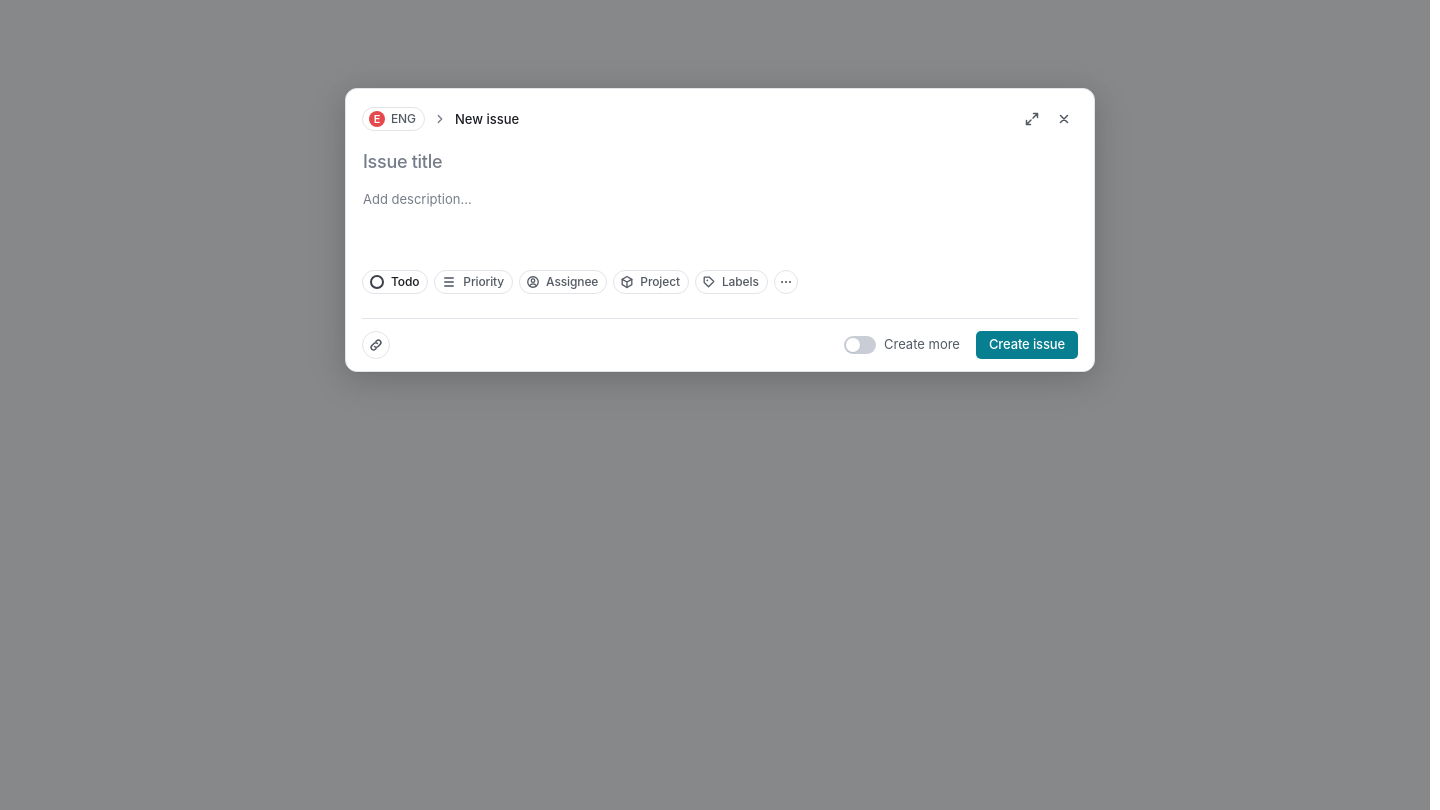
it: CreateIssueModal › refuses an empty title without filing anything or closing
Click the switch named "Create more" at (860, 344), box [844, 336, 876, 354]
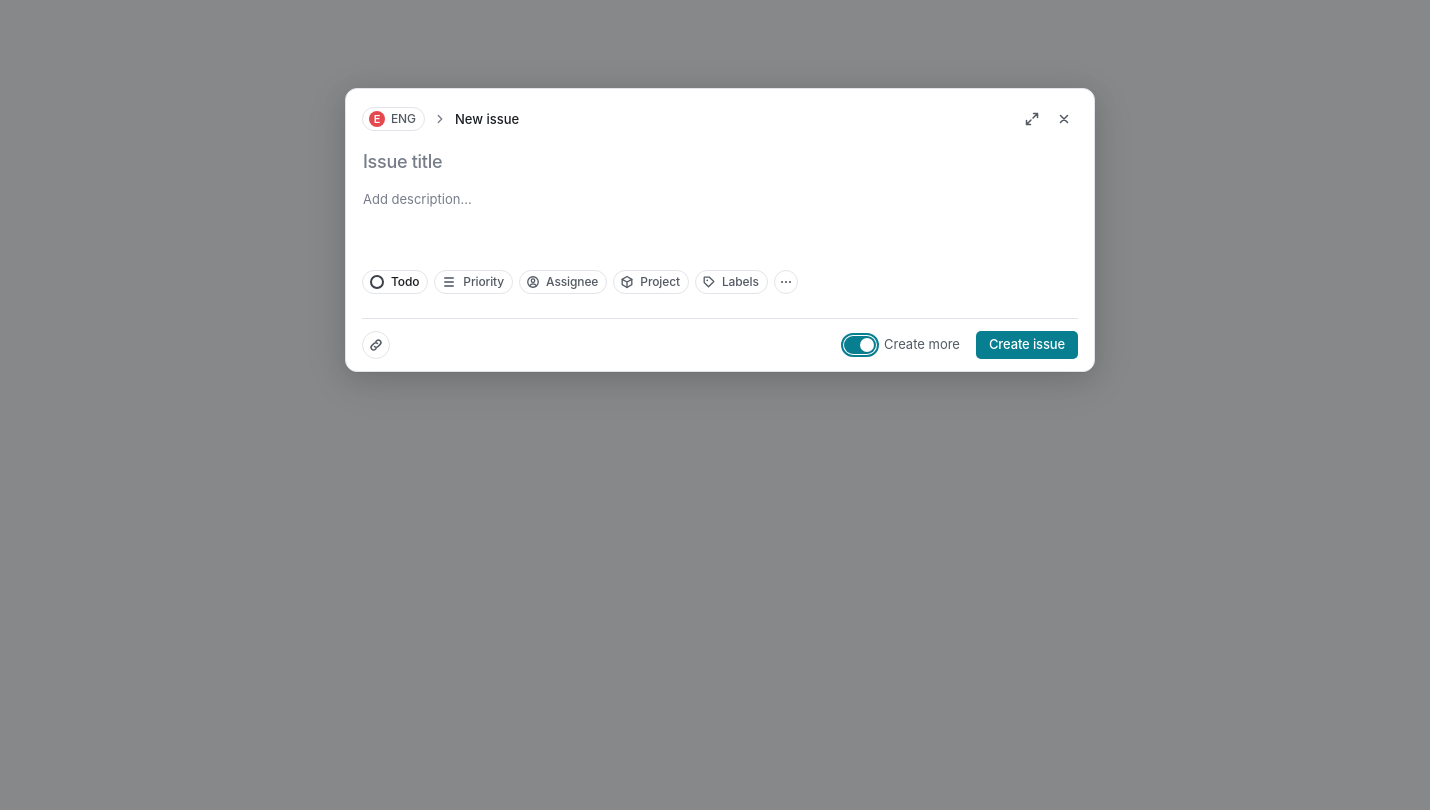
Click the button "Create issue" at (1027, 344), box [976, 330, 1078, 358]
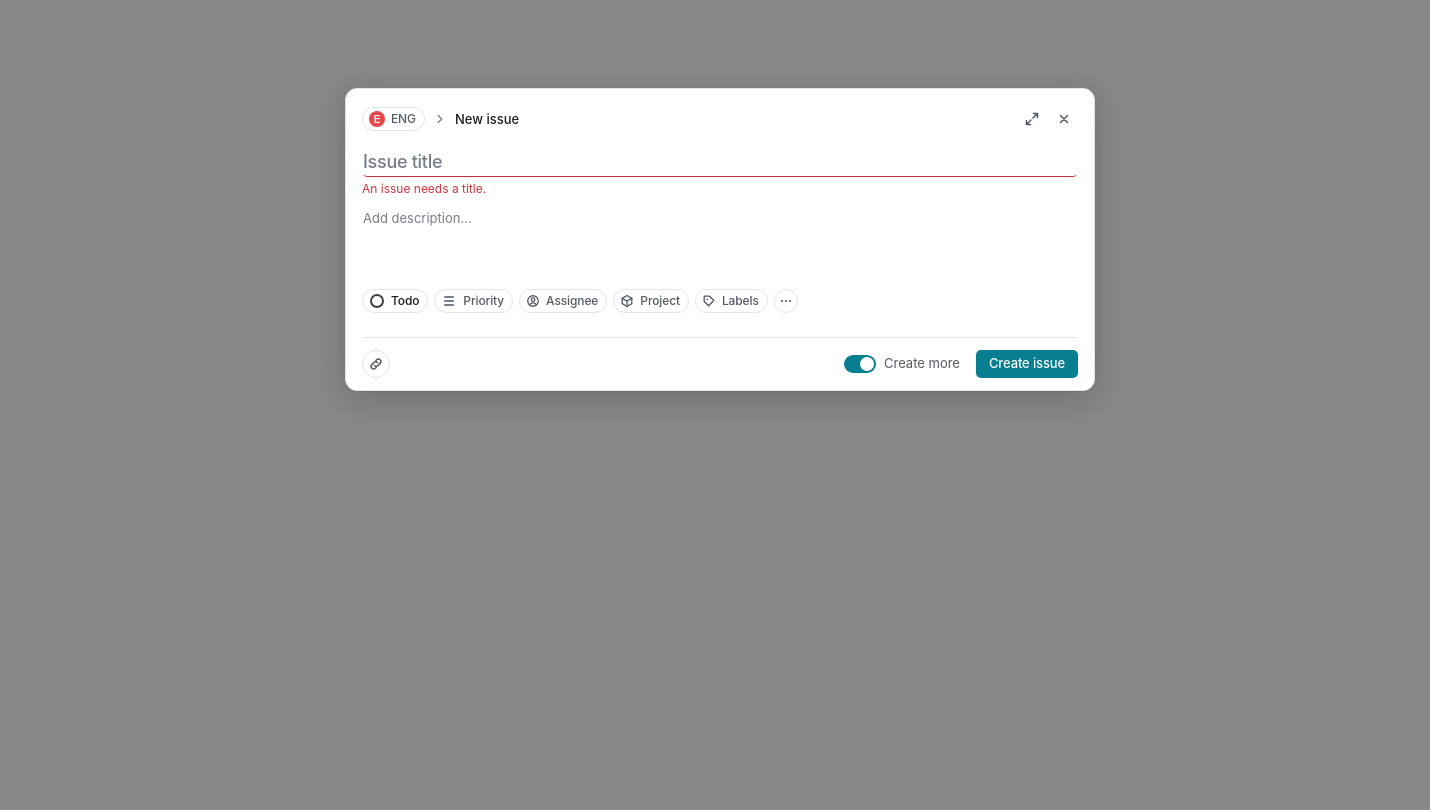
Result: the text "An issue needs a title." is shown at [362, 181, 486, 196]
